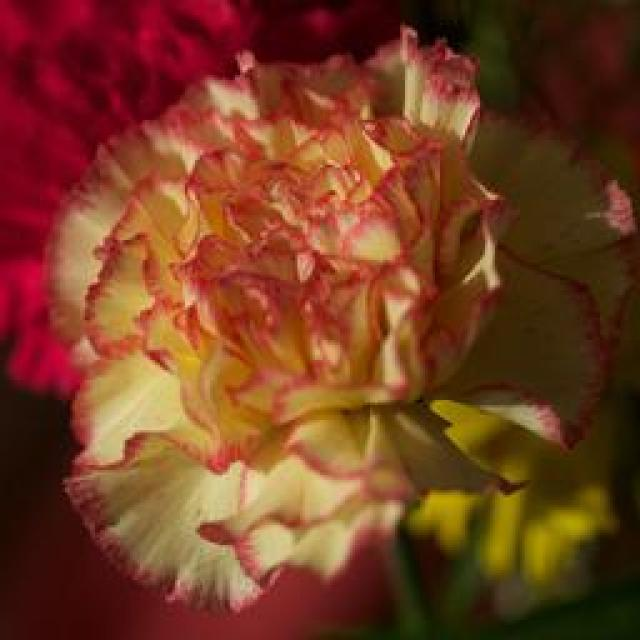carnation: (45, 22, 640, 578)
